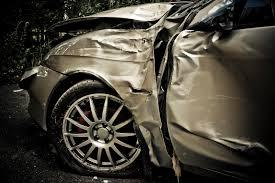doorouter-dent: (169, 36, 264, 165)
fender-dent: (56, 34, 157, 87)
